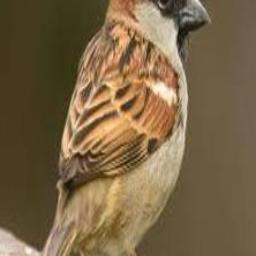Sparrow: (23, 0, 212, 256)
